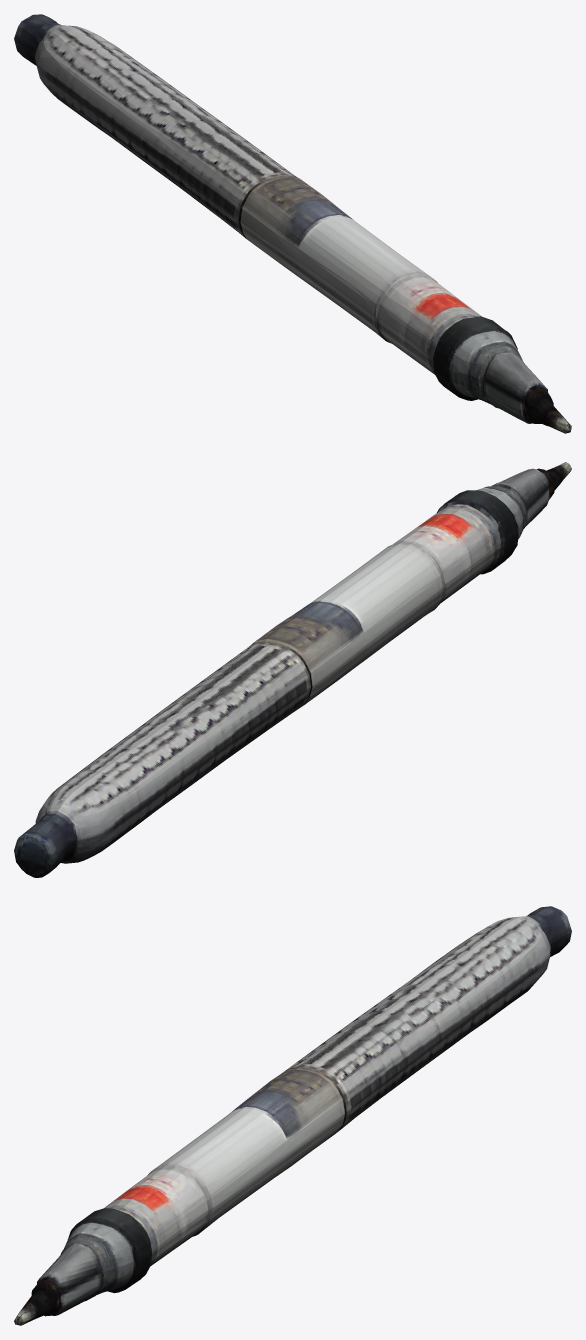
3 renders of one model, top to bottom at view 1: azimuth 30°, elevation 25°; view 2: azimuth 150°, elevation 25°; view 3: azimuth 330°, elevation 25°, orthographic.
Parts seen in each view (by area): view 1: world; view 2: world; view 3: world.
Boxes of the visible parts, left/top/right/bottom form: world: left=14, top=14, right=571, bottom=433; world: left=14, top=462, right=571, bottom=877; world: left=14, top=906, right=571, bottom=1325.
Size of the model in its own units: 0.0782 by 0.0757 by 1.
Materials: 1 (1 with a texture image).
